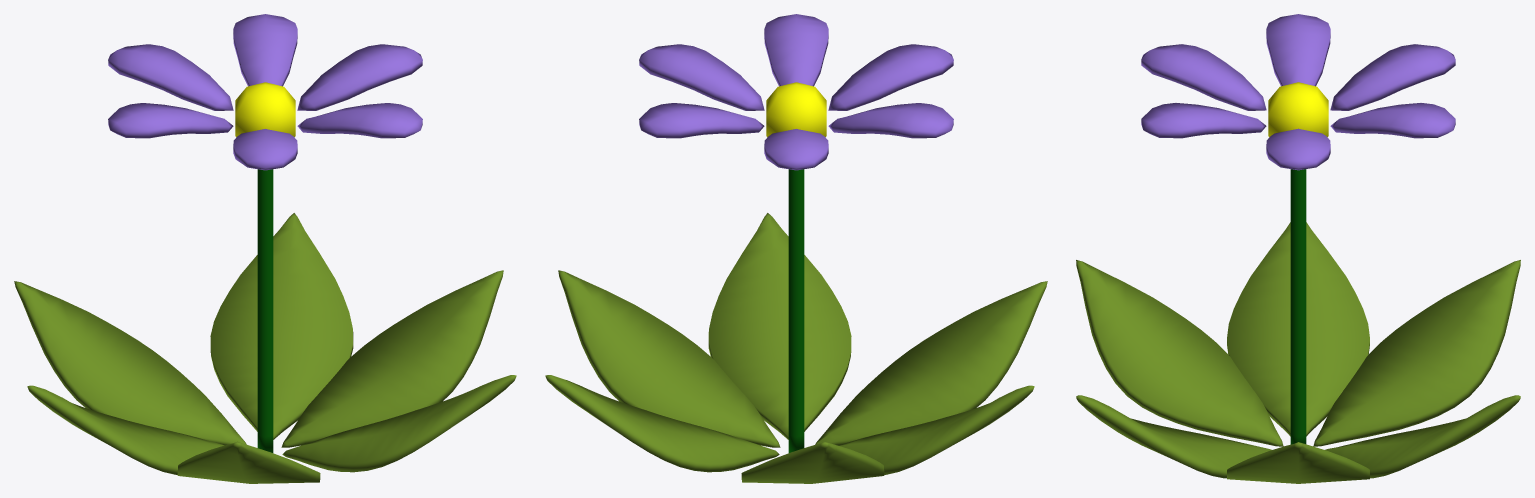
The model's file is hepatica_0004.obj.
3 renders of one model, left to right at view 1: azimuth 30°, elevation 25°; view 2: azimuth 150°, elevation 25°; view 3: azimuth 270°, elevation 25°, orthographic.
Parts seen in each view (by area): view 1: hepatica_0004; view 2: hepatica_0004; view 3: hepatica_0004.
Boxes of the visible parts, bbox=[...] form: hepatica_0004: bbox=[14, 14, 516, 483]; hepatica_0004: bbox=[545, 14, 1047, 483]; hepatica_0004: bbox=[1076, 14, 1520, 483].
Bounding box in the file's own units: 2.99 × 2.22 × 2.42.
Materials: 1 (1 with a texture image).
